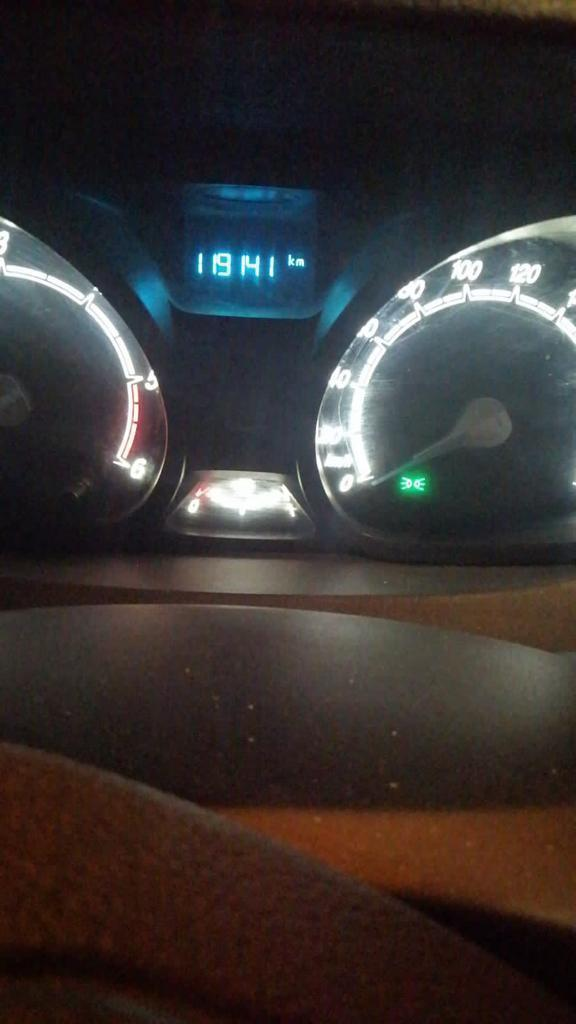1: (267, 253, 276, 278), (196, 250, 204, 277), (240, 253, 245, 278), (211, 252, 216, 275)
4: (246, 253, 260, 277)
9: (217, 250, 231, 276)
X: (287, 253, 295, 267), (295, 256, 305, 267)
odometer: (178, 223, 316, 297)
